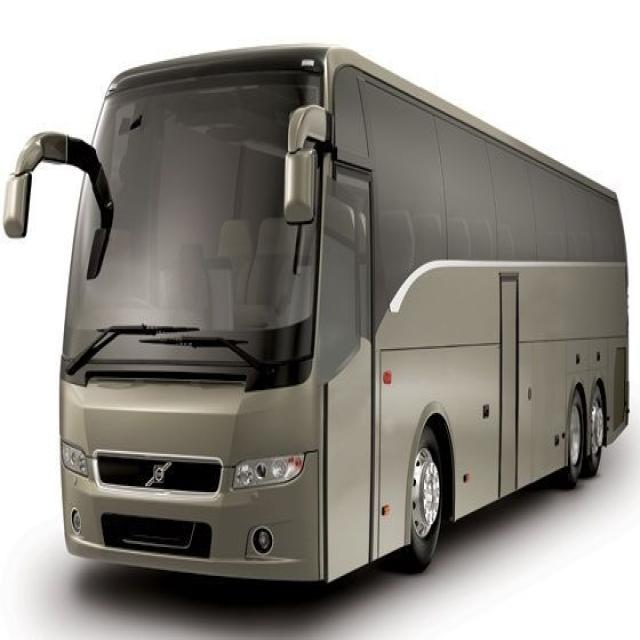bus: (4, 47, 630, 581)
